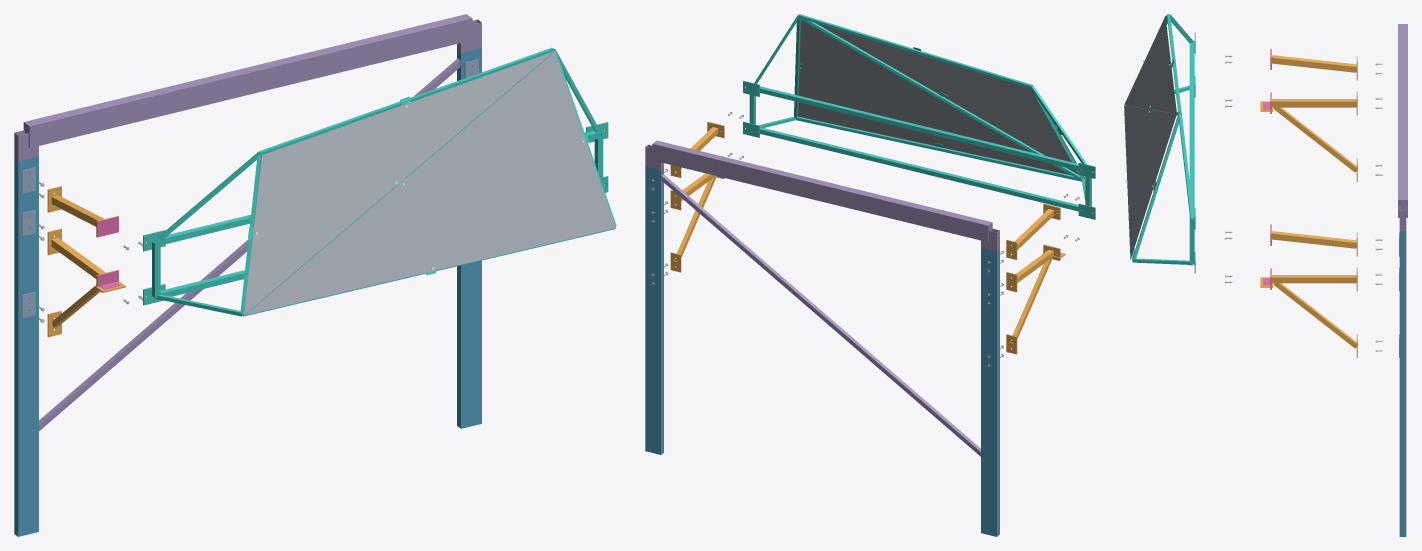
Rendered from baaabs-panel-mounting-v4-exploded.glb.
3 views of the same model, side by side, from view 1: azimuth 30°, elevation 25°; view 2: azimuth 150°, elevation 25°; view 3: azimuth 270°, elevation 25° (orthographic). The views are drawn at different scales.
Visible parts, largest first — view 1: B-D-033 existing skin, B-D-034 existing skin, Existing roof longitudinal, C driver upright, D driver upright, Existing C-D side brace, Facet backing edge (1, 3), Cassette top rail, Cassette bottom rail, Facet corner pickup 3, Facet backing edge (0, 3); view 2: B-D-033 existing skin, B-D-034 existing skin, Existing roof longitudinal, C driver upright, D driver upright, Existing C-D side brace, Cassette bottom rail, Cassette top rail, Facet backing edge (0, 1), Facet backing edge (0, 2), Facet backing edge (1, 3), C lower outrigger brace (+1 smaller); view 3: B-D-033 existing skin, B-D-034 existing skin, D driver upright, Existing roof longitudinal, Cassette top rail, C-upper outrigger, D-upper outrigger, C-lower outrigger, D-lower outrigger, D lower outrigger brace, C lower outrigger brace, Facet backing edge (1, 2) (+2 smaller).
Boxes of the visible parts, left/top/right/bottom form: B-D-033 existing skin: left=245, top=52, right=615, bottom=315; B-D-034 existing skin: left=244, top=51, right=553, bottom=314; Existing roof longitudinal: left=23, top=14, right=472, bottom=147; C driver upright: left=14, top=156, right=38, bottom=536; D driver upright: left=457, top=48, right=481, bottom=428; Existing C-D side brace: left=39, top=58, right=460, bottom=431; Facet backing edge (1, 3): left=259, top=47, right=553, bottom=155; Cassette top rail: left=154, top=131, right=600, bottom=245; Cassette bottom rail: left=156, top=270, right=244, bottom=299; Facet corner pickup 3: left=154, top=152, right=259, bottom=243; Facet backing edge (0, 3): left=240, top=153, right=261, bottom=314; B-D-033 existing skin: left=798, top=19, right=1069, bottom=174; B-D-034 existing skin: left=816, top=23, right=1084, bottom=178; Existing roof longitudinal: left=652, top=140, right=992, bottom=241; C driver upright: left=981, top=248, right=999, bottom=536; D driver upright: left=645, top=166, right=663, bottom=454; Existing C-D side brace: left=661, top=174, right=980, bottom=456; Cassette bottom rail: left=757, top=127, right=1081, bottom=211; Cassette top rail: left=757, top=86, right=1081, bottom=170; Facet backing edge (0, 1): left=799, top=18, right=1081, bottom=181; Facet backing edge (0, 2): left=796, top=116, right=1081, bottom=181; Facet backing edge (1, 3): left=798, top=14, right=1032, bottom=88; C lower outrigger brace: left=1009, top=258, right=1052, bottom=343; B-D-033 existing skin: left=1124, top=105, right=1176, bottom=259; B-D-034 existing skin: left=1124, top=16, right=1176, bottom=113; D driver upright: left=1399, top=231, right=1406, bottom=536; Existing roof longitudinal: left=1398, top=24, right=1407, bottom=217; Cassette top rail: left=1189, top=40, right=1194, bottom=218; C-upper outrigger: left=1272, top=55, right=1356, bottom=72; D-upper outrigger: left=1272, top=231, right=1356, bottom=248; C-lower outrigger: left=1272, top=99, right=1356, bottom=107; D-lower outrigger: left=1272, top=275, right=1356, bottom=283; D lower outrigger brace: left=1273, top=283, right=1358, bottom=348; C lower outrigger brace: left=1273, top=107, right=1358, bottom=172; Facet backing edge (1, 2): left=1132, top=113, right=1179, bottom=260.
Bounding box in the file's own units: 3.41 × 3.42 × 2.21.
